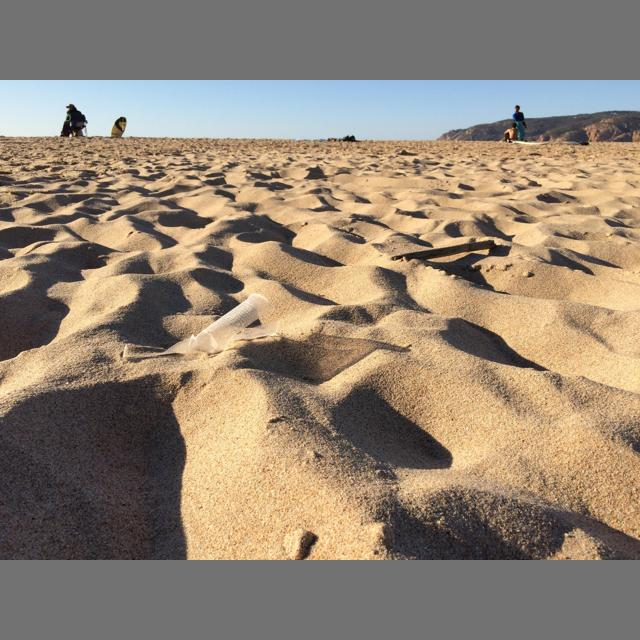litter: (122, 293, 278, 359)
